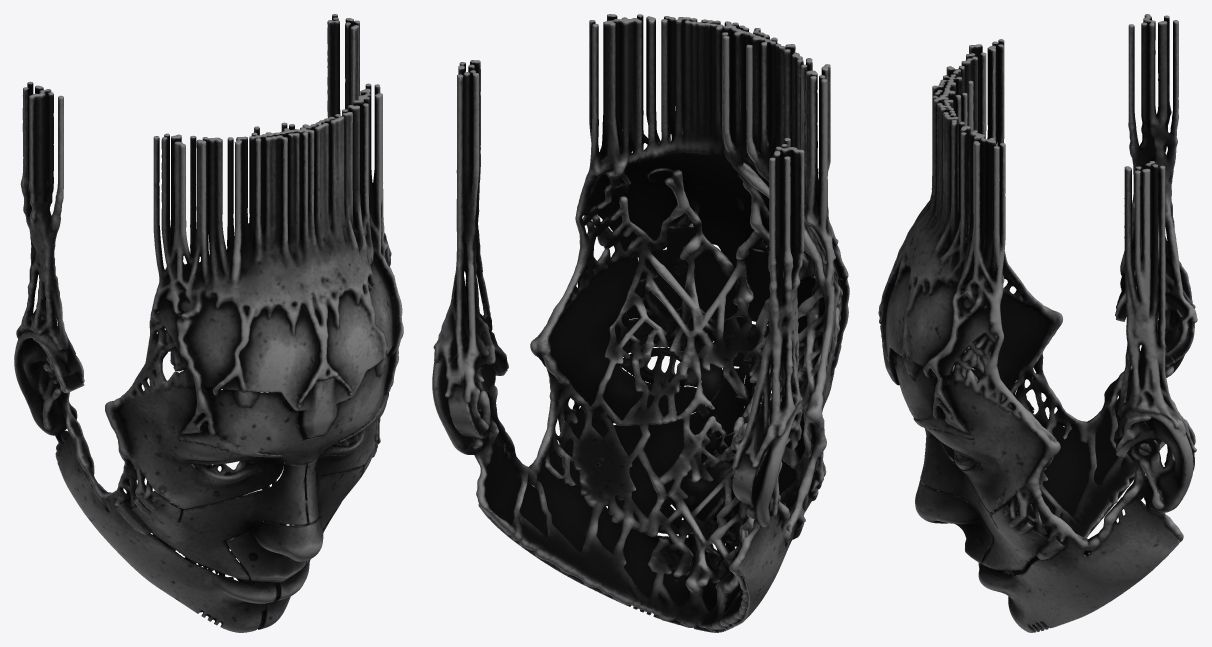
Rendered from compressed_1731646973555_soulless.glb.
3 renders of one model, left to right at view 1: azimuth 30°, elevation 25°; view 2: azimuth 150°, elevation 25°; view 3: azimuth 270°, elevation 25°, orthographic. The views are drawn at different scales.
Parts seen in each view (by area): view 1: Head1:Mesh_lambert3_0; view 2: Head1:Mesh_lambert3_0; view 3: Head1:Mesh_lambert3_0.
Part boxes in pixels (x1,y1,x2,y2): Head1:Mesh_lambert3_0: (14,14,403,632); Head1:Mesh_lambert3_0: (432,14,849,632); Head1:Mesh_lambert3_0: (878,14,1197,632).
Size of the model in its own units: 342 by 525 by 286.
Materials: 1 (1 with a texture image).
